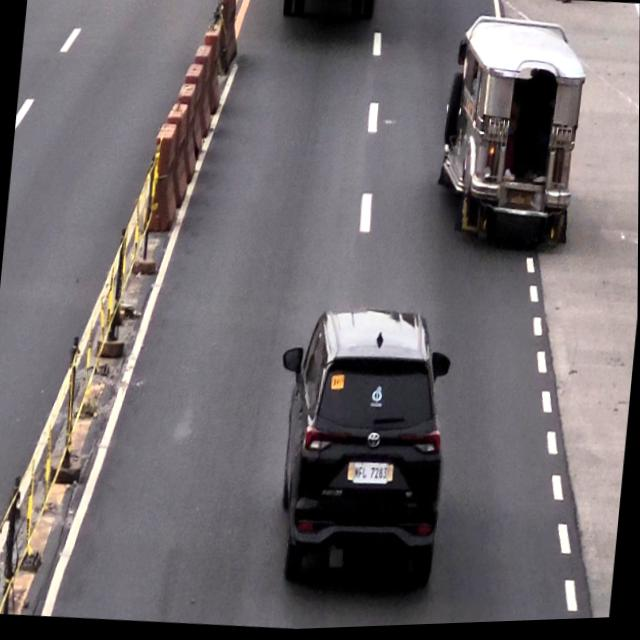Car: (267, 308, 456, 595)
Jeep: (437, 20, 586, 231)
License-Plate: (348, 464, 391, 490), (507, 193, 535, 214)
